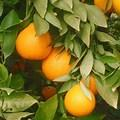orange: (15, 23, 54, 62), (37, 43, 75, 82), (65, 83, 97, 117), (96, 0, 120, 17)
